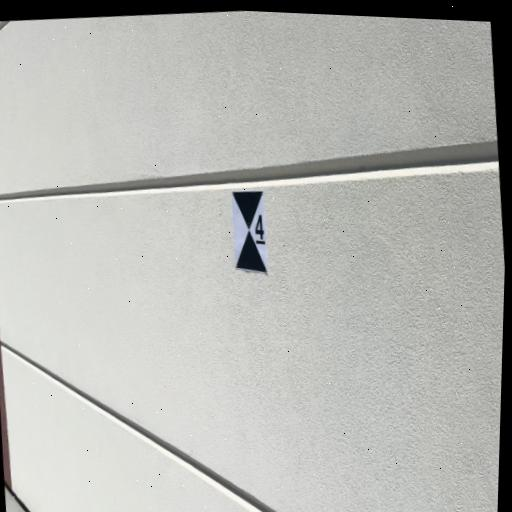target4: (233, 192, 268, 277)
